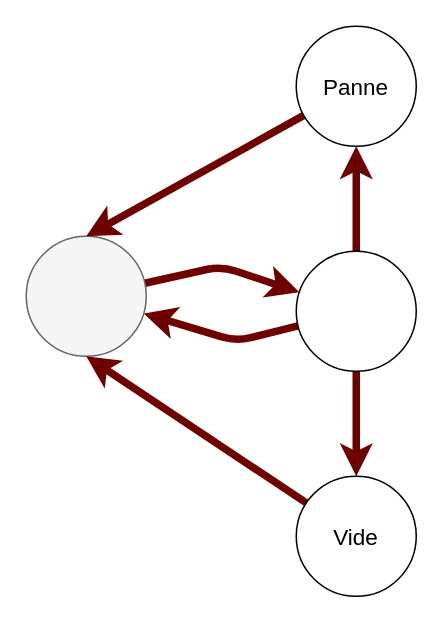
This 443x623 diagram has some shape labels left out. The shapes that lost their labels are listed below. From the top down, each one's centre as x and y in pixels, then its label:
the point at 85,295: Non Utilisee
the point at 355,310: Utilis ee
